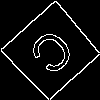C: (26, 26, 84, 85)
